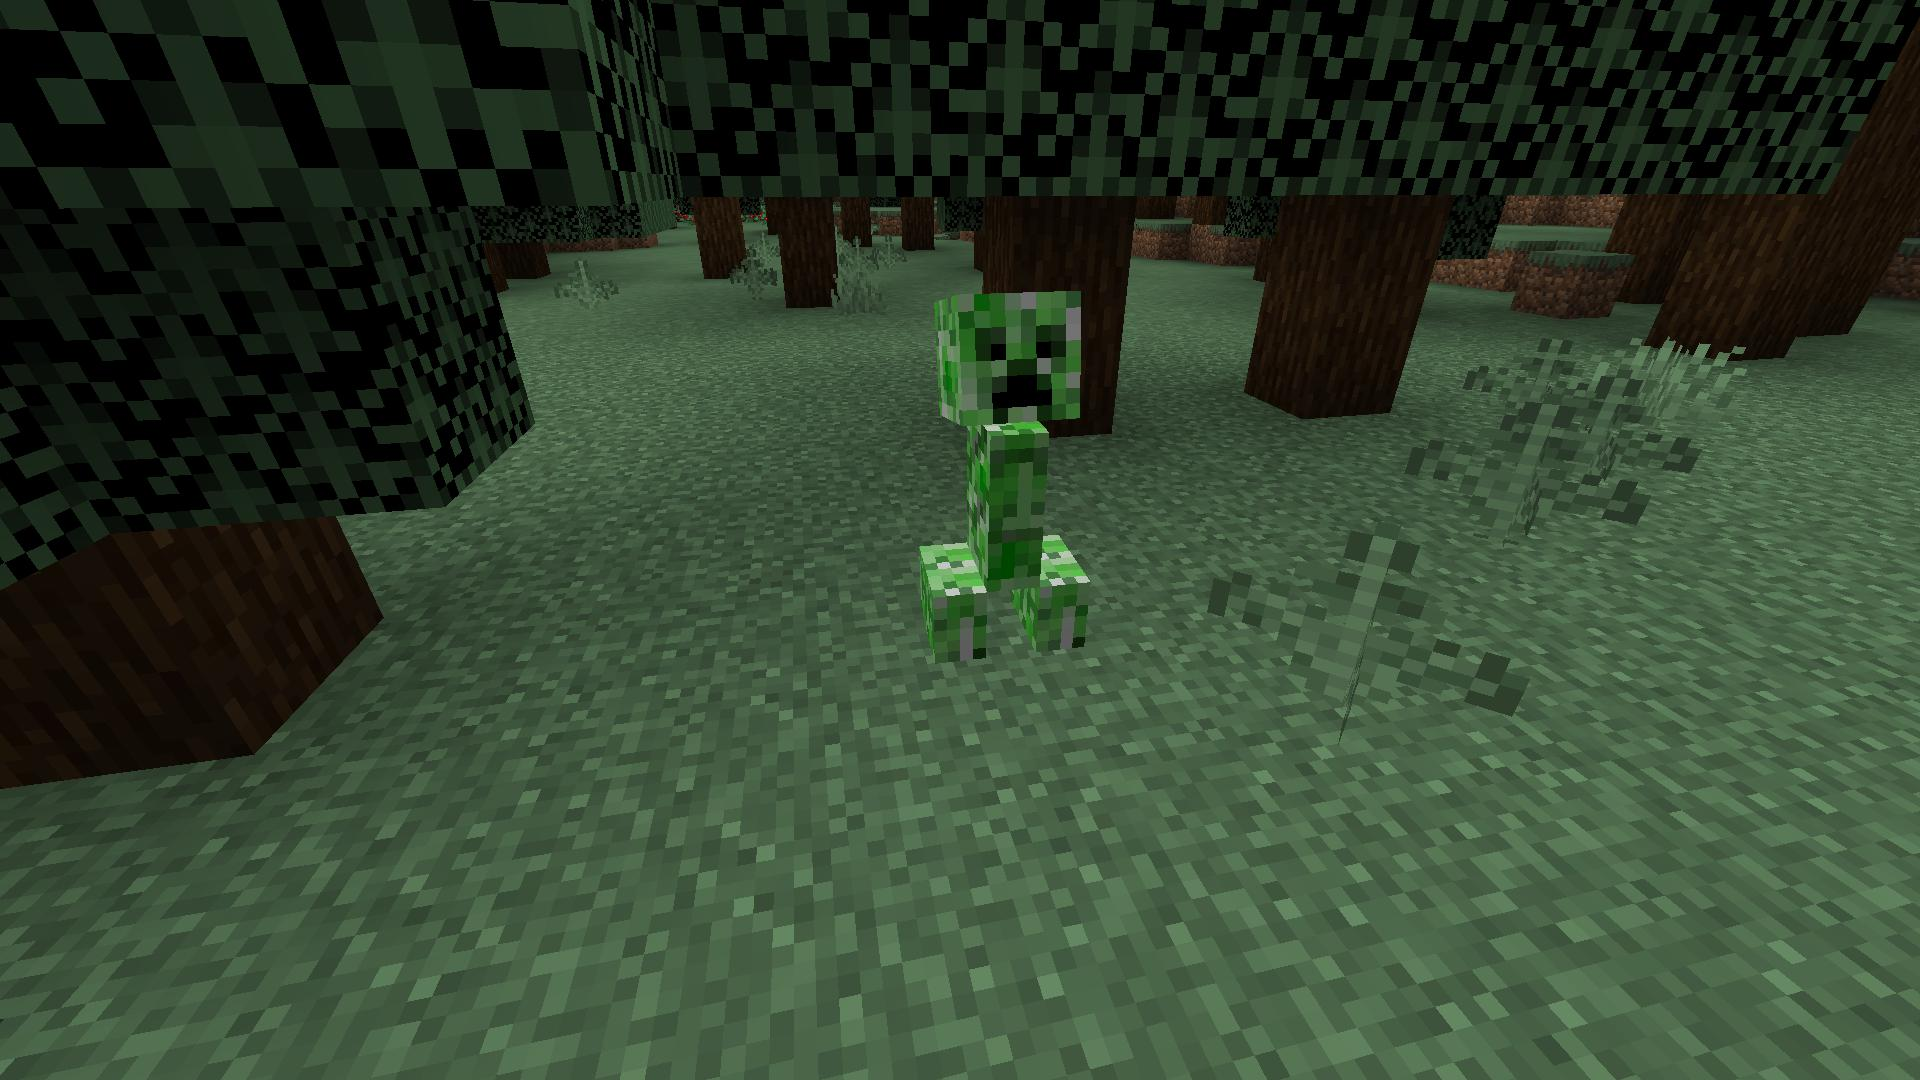creeper: (909, 278, 1113, 687)
